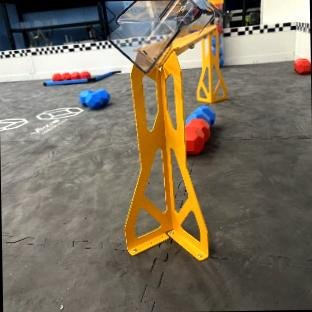V5_BLUE: (186, 104, 214, 124), (79, 90, 109, 108)
V5_RED: (185, 118, 209, 153), (51, 71, 90, 81), (294, 57, 310, 73)
